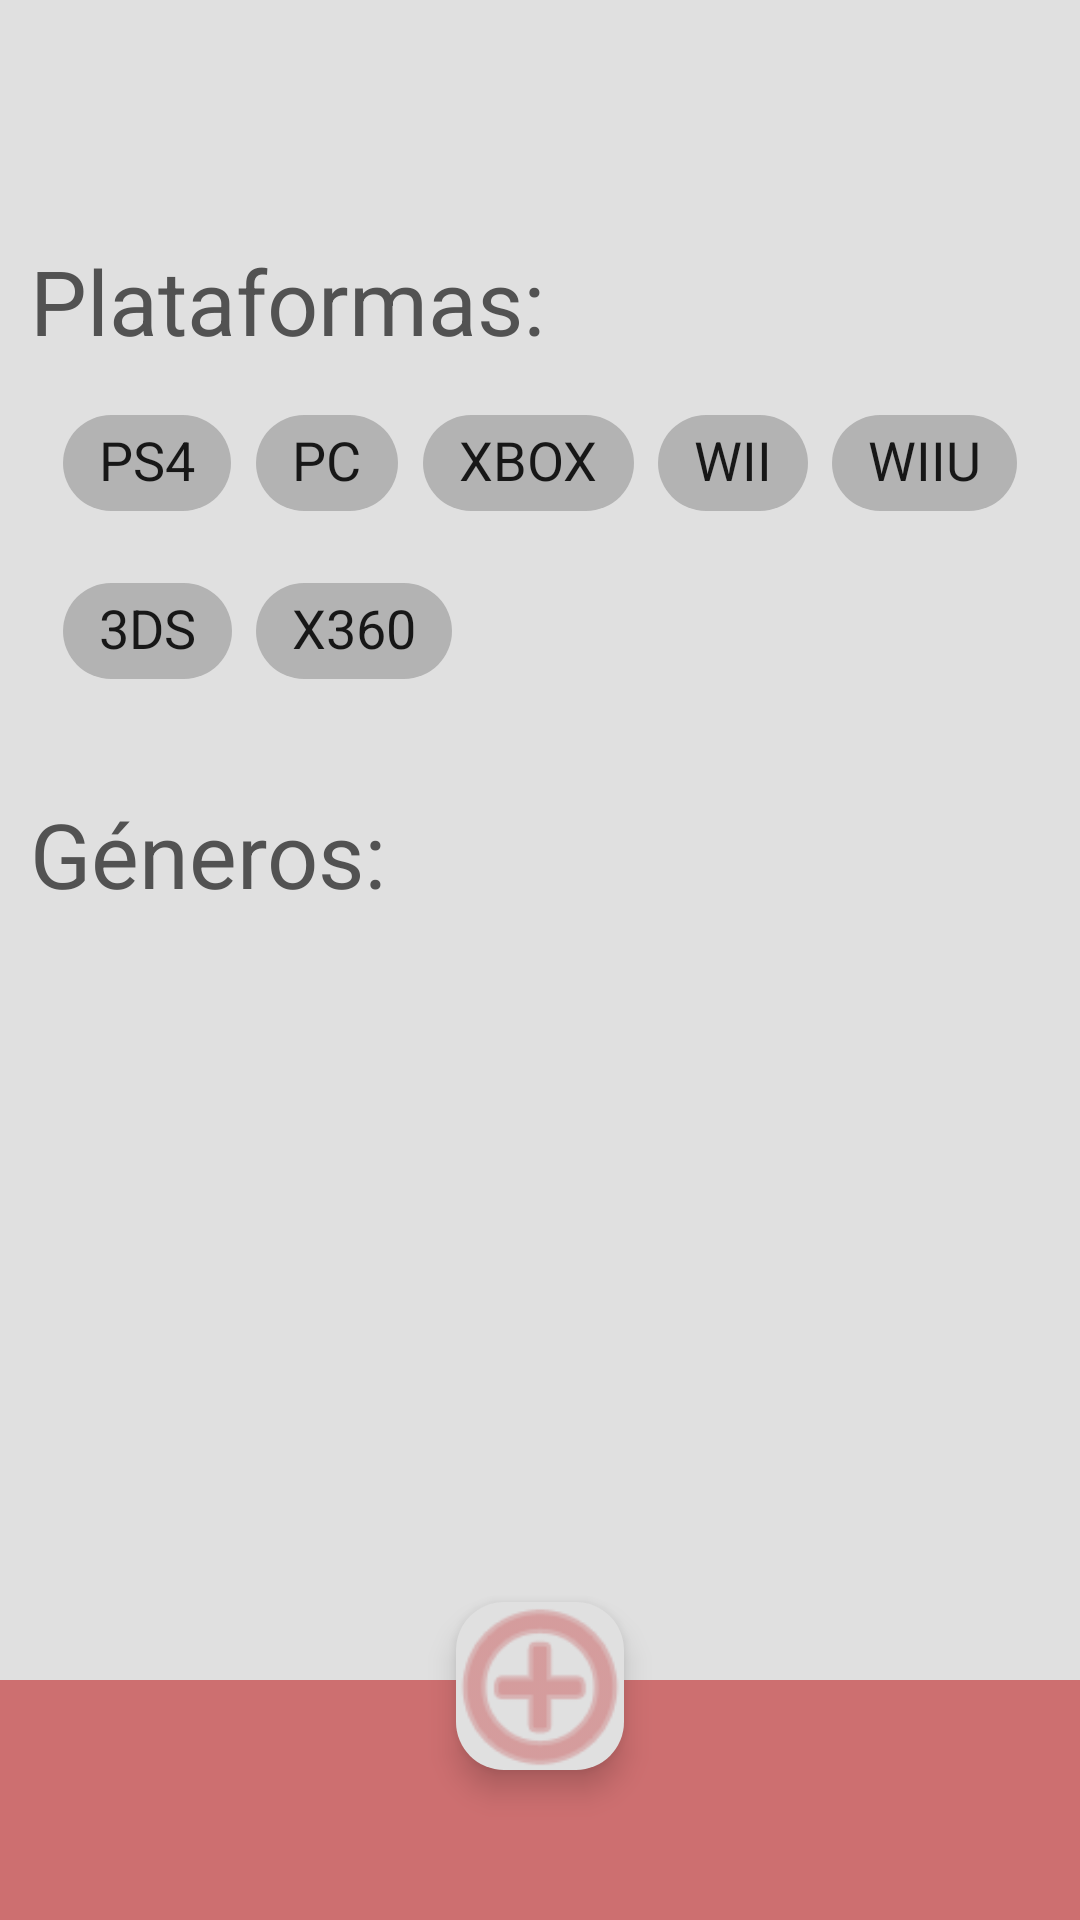

Where to tap for icons on this 1080px x 1920px app screen, as (x=x, y=y):
add: (x=540, y=1686)
